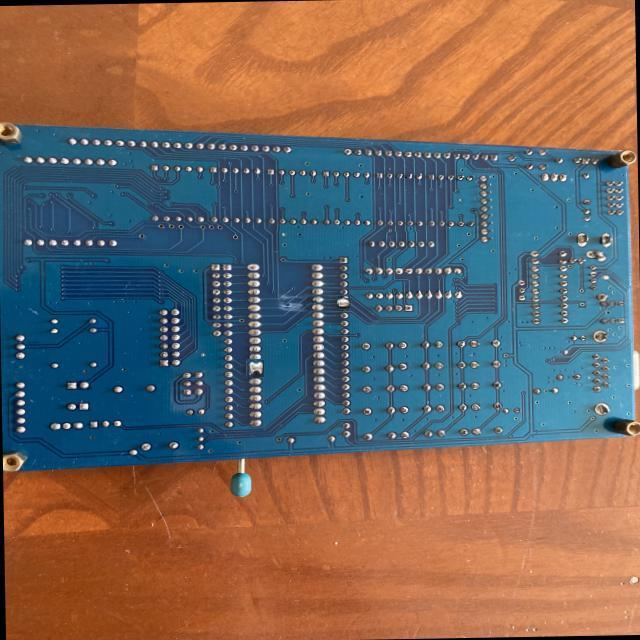damged: (246, 360, 264, 377), (337, 296, 351, 310)
